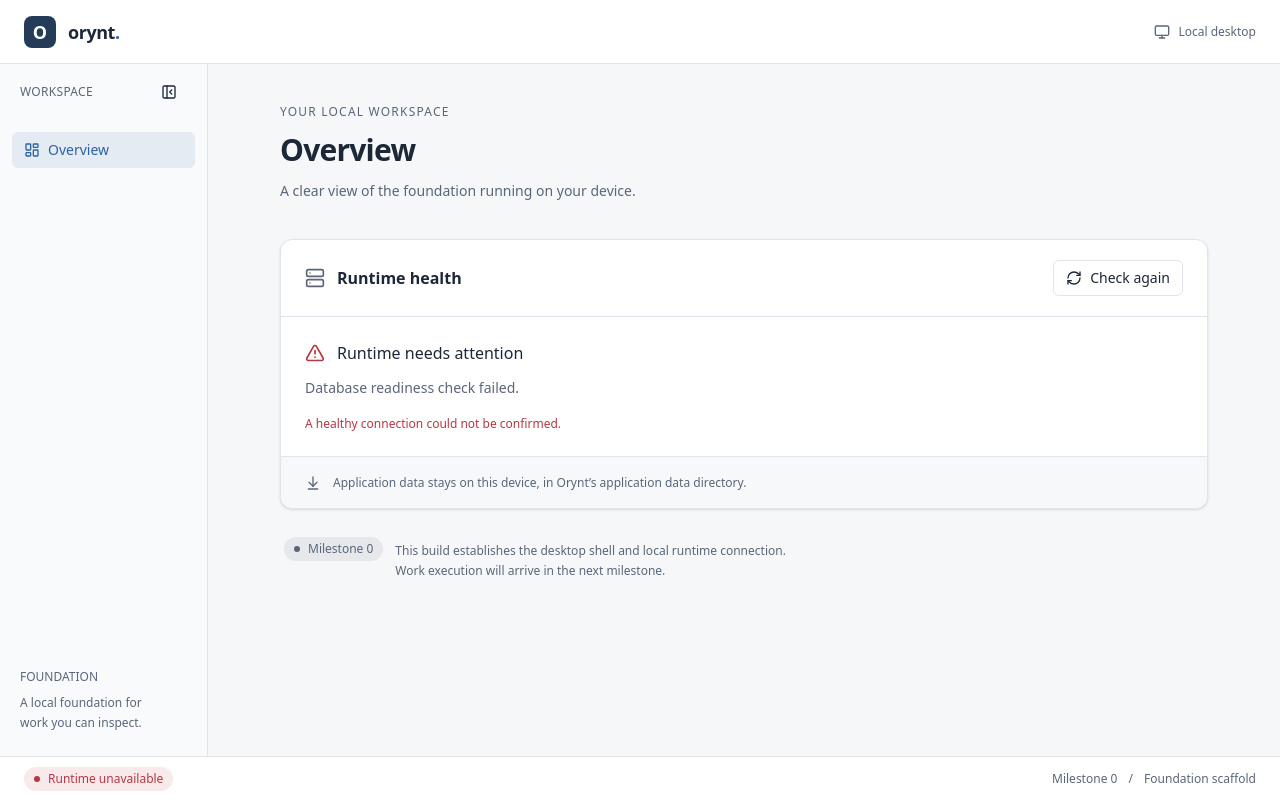
foundation overview › surfaces a database error and recovers after an explicit check
Check: the message shows "Database readiness check failed.", box 305,378 -> 519,397
Check: the text "Your local foundation is ready" is not shown
What coordinates should you click on to do the following:
click the button "Check again"
I would click on:
 (1118, 278)
Its box is 1053,260 -> 1183,296.
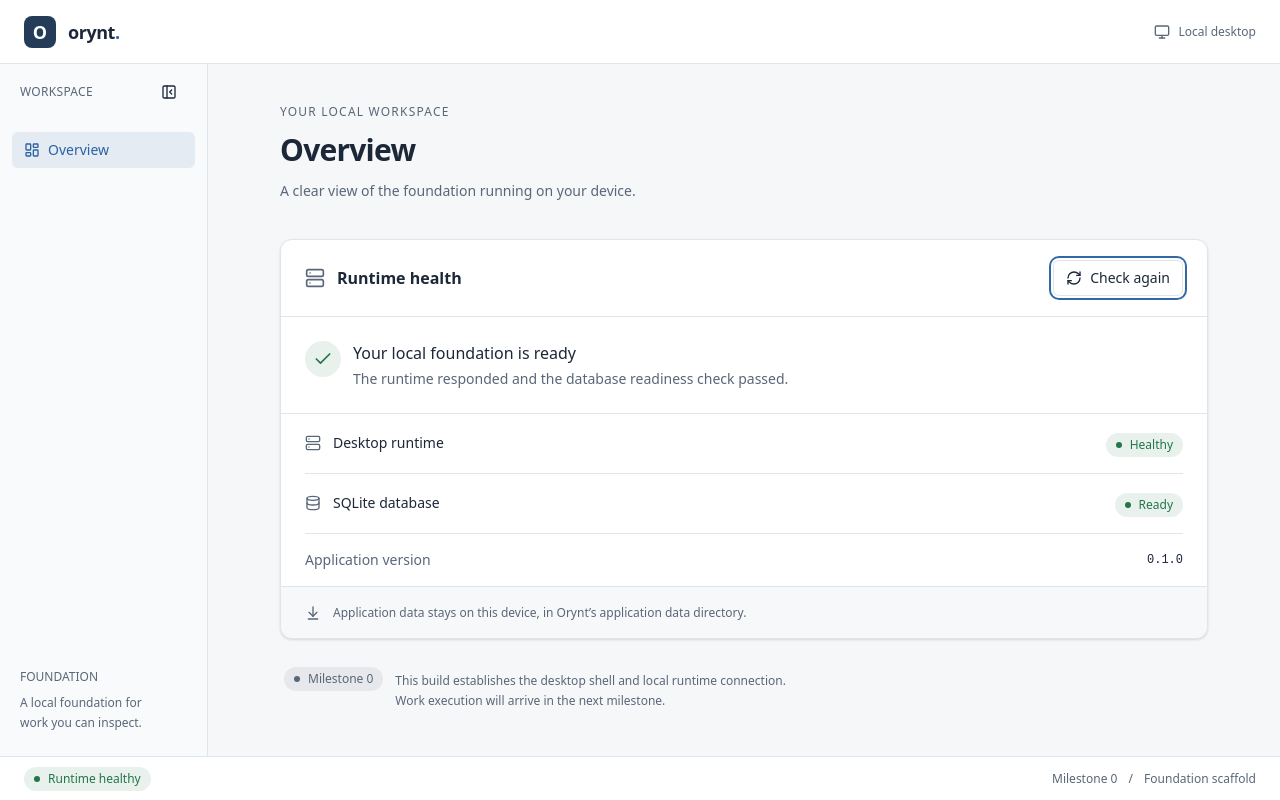
Check: the heading "Your local foundation is ready" is shown, box 353,342 -> 576,364
